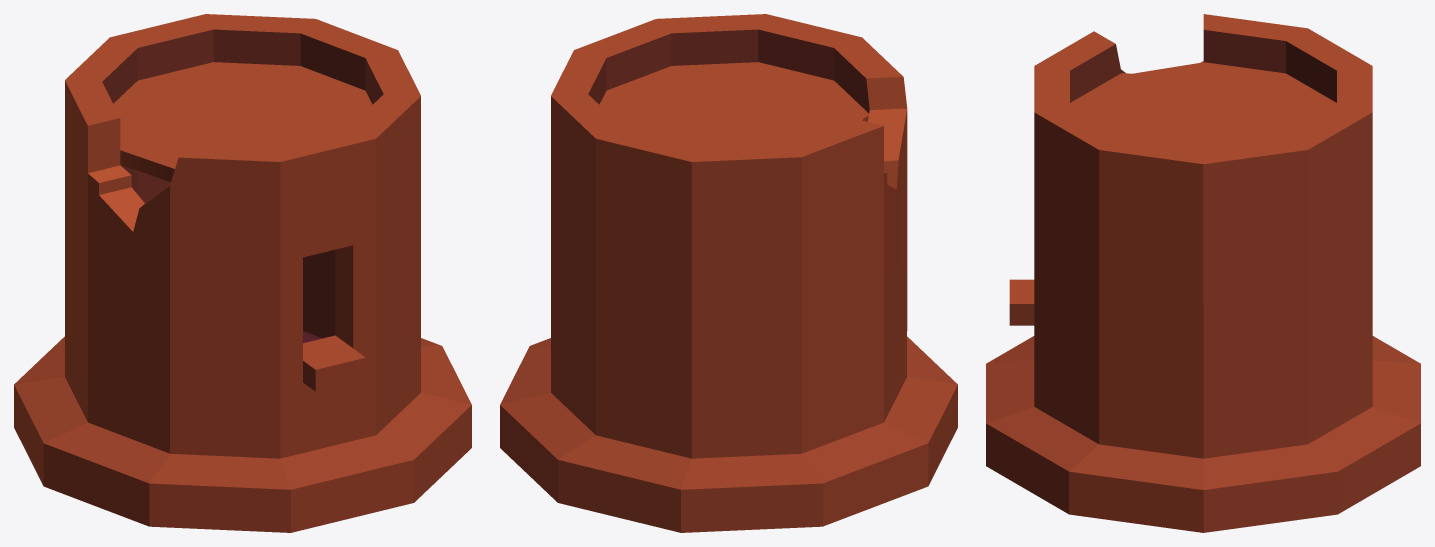
The model's file is clinder_house_A.fbx.
The picture shows the model from 3 angles, left to right: view 1: azimuth 30°, elevation 25°; view 2: azimuth 150°, elevation 25°; view 3: azimuth 270°, elevation 25°; orthographic projection.
Visible parts, largest first — view 1: clinder_house_A; view 2: clinder_house_A; view 3: clinder_house_A.
Part boxes in pixels (x1,y1,x2,y2): clinder_house_A: [14, 14, 471, 532]; clinder_house_A: [500, 14, 957, 532]; clinder_house_A: [986, 14, 1420, 532].
Bounding box in the file's own units: 298 × 250 × 283.
